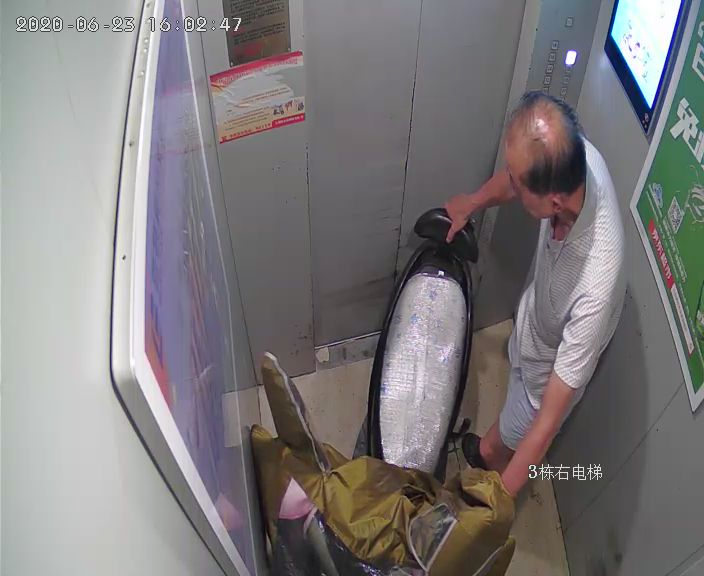Electric-bicycle: (269, 212, 489, 576)
